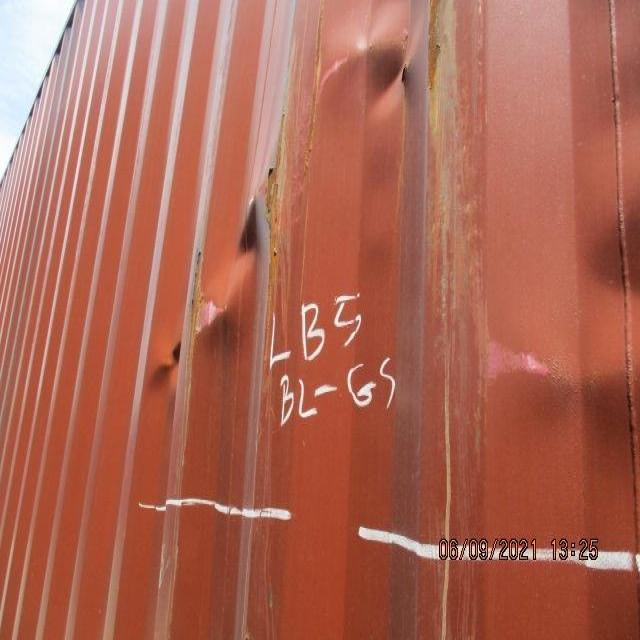Dent: (126, 24, 583, 500)
